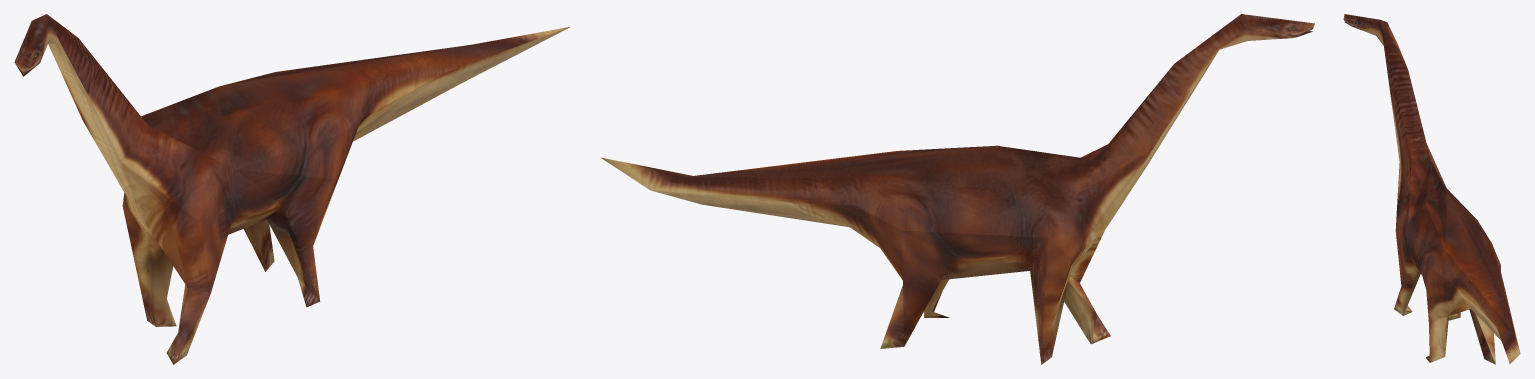
File: Phuwiangosaurus sirindhornae.glb
The picture shows the model from 3 angles, left to right: view 1: azimuth 30°, elevation 25°; view 2: azimuth 150°, elevation 25°; view 3: azimuth 270°, elevation 25°; orthographic projection. The views are drawn at different scales.
Parts seen in each view (by area): view 1: pasted__Phuwiango1__Phuwiango_01_ZB:Phuwiango_0; view 2: pasted__Phuwiango1__Phuwiango_01_ZB:Phuwiango_0; view 3: pasted__Phuwiango1__Phuwiango_01_ZB:Phuwiango_0.
Part boxes in pixels (box(x1,y1,x2,y2)): pasted__Phuwiango1__Phuwiango_01_ZB:Phuwiango_0: box(14, 14, 570, 364); pasted__Phuwiango1__Phuwiango_01_ZB:Phuwiango_0: box(600, 14, 1314, 364); pasted__Phuwiango1__Phuwiango_01_ZB:Phuwiango_0: box(1343, 14, 1520, 364).
Bounding box in the file's own units: 22.26 × 12.25 × 7.95.
1 material, 1 textured.
